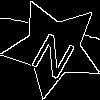N: (28, 23, 83, 81)
